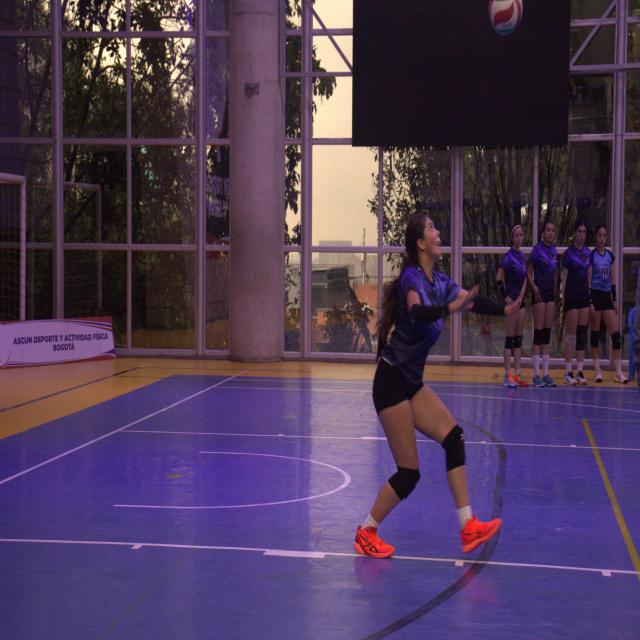volleyball: (488, 0, 527, 33)
